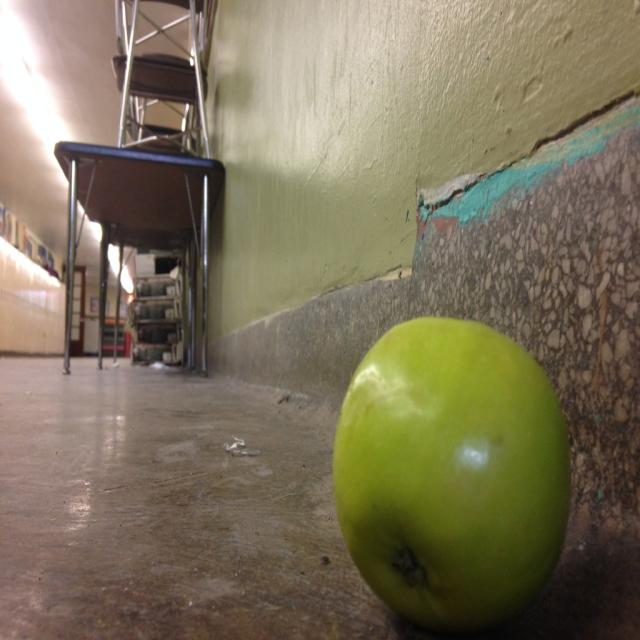Healty Apple: (338, 317, 572, 635)
